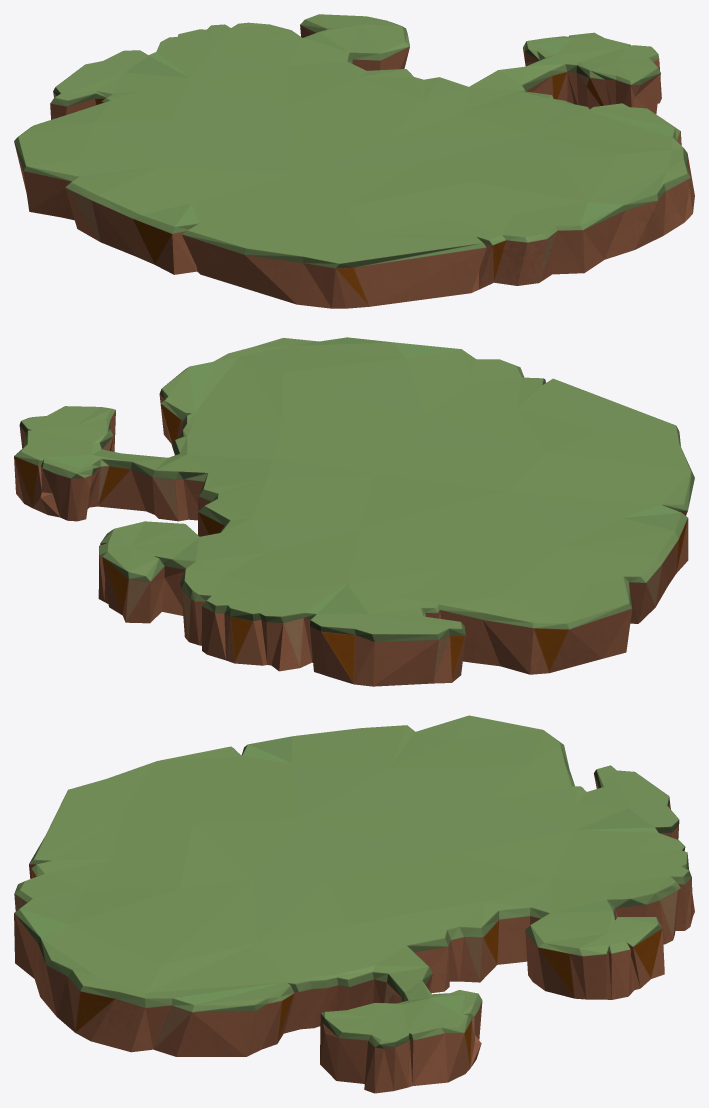
The model's file is Island.glb.
3 views of the same model, one above another, from view 1: azimuth 30°, elevation 25°; view 2: azimuth 150°, elevation 25°; view 3: azimuth 270°, elevation 25° (orthographic). The views are drawn at different scales.
Visible parts, largest first — view 1: node_id49; view 2: node_id49; view 3: node_id49.
Boxes of the visible parts, x1,y1,x2,y2 form: node_id49: (14, 14, 694, 308); node_id49: (14, 337, 694, 686); node_id49: (14, 715, 694, 1093).
Size of the model in its own units: 0.5828 by 0.0446 by 0.512.
Materials: 1 (1 with a texture image).
